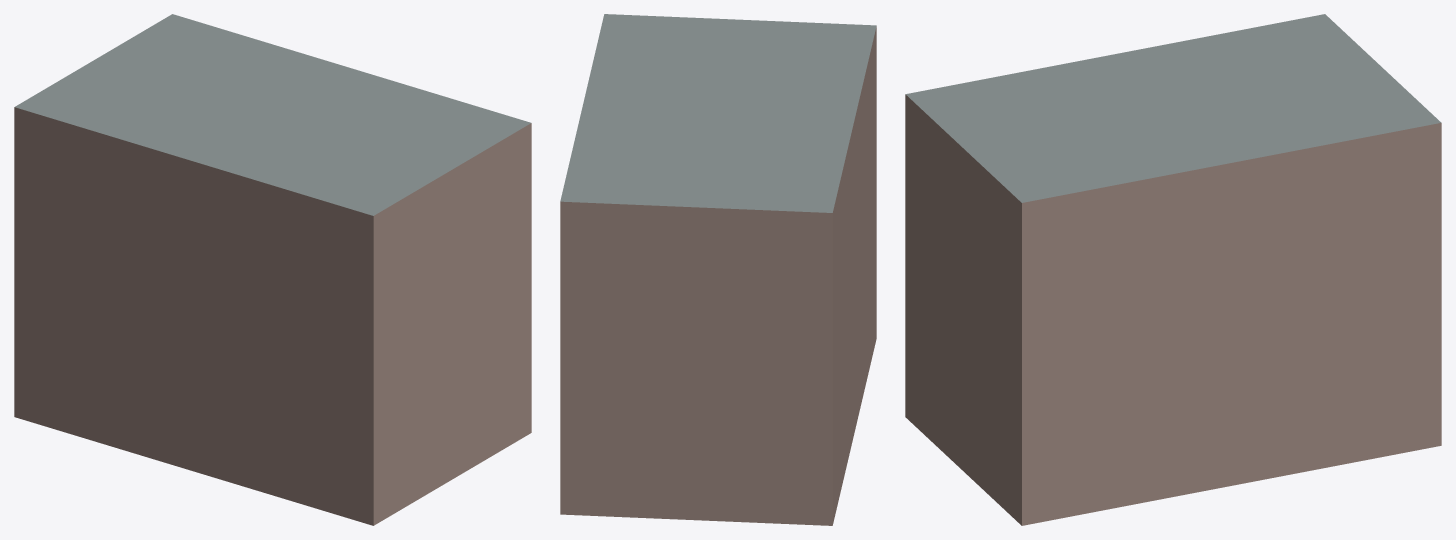
The model's file is sample-building.gltf.
The picture shows the model from 3 angles, left to right: view 1: azimuth 30°, elevation 25°; view 2: azimuth 150°, elevation 25°; view 3: azimuth 270°, elevation 25°; orthographic projection. The views are drawn at different scales.
Visible parts, largest first — view 1: sample-building; view 2: sample-building; view 3: sample-building.
Part boxes in pixels (<box>): sample-building: <box>14,14,531,525</box>; sample-building: <box>560,14,876,525</box>; sample-building: <box>905,14,1441,525</box>.
Bounding box in the file's own units: 20.03 × 15.96 × 24.01.
